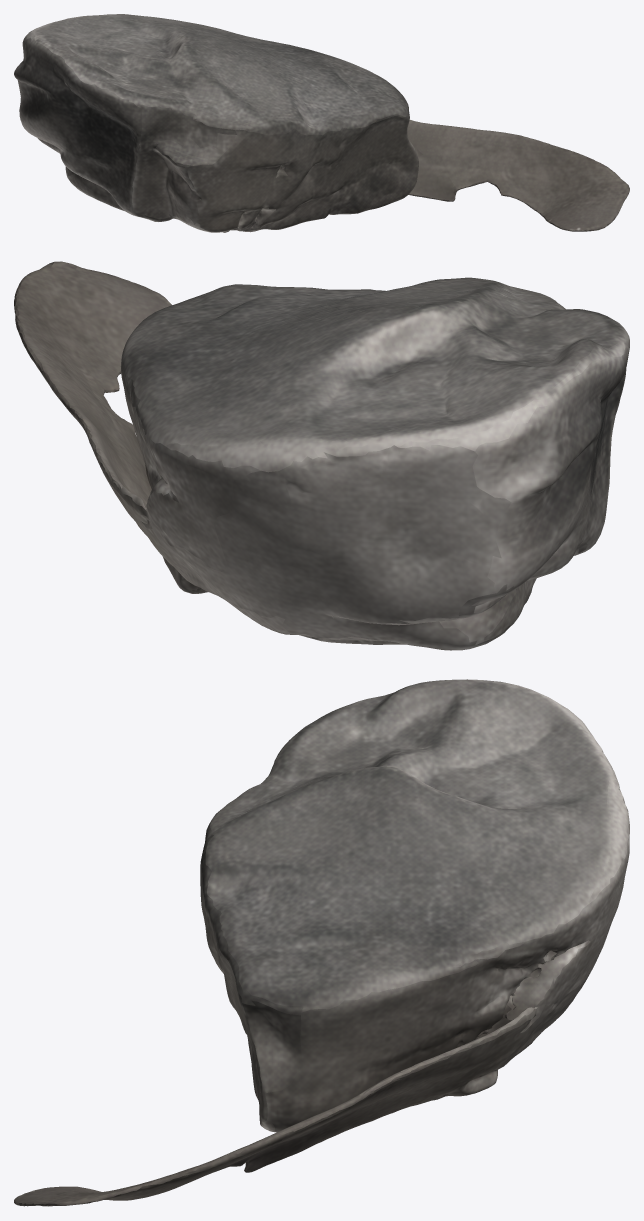
3 views of the same model, one above another, from view 1: azimuth 30°, elevation 25°; view 2: azimuth 150°, elevation 25°; view 3: azimuth 270°, elevation 25° (orthographic). The views are drawn at different scales.
Visible parts, largest first — view 1: world; view 2: world; view 3: world.
Boxes of the visible parts, x1,y1,x2,y2 form: world: (14,14,629,232); world: (14,261,629,650); world: (14,679,629,1206).
Bounding box in the file's own units: 1.2 × 0.4565 × 0.9689.
Materials: 1 (1 with a texture image).
